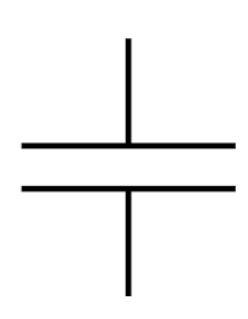Capacitor: (6, 91, 238, 225)
